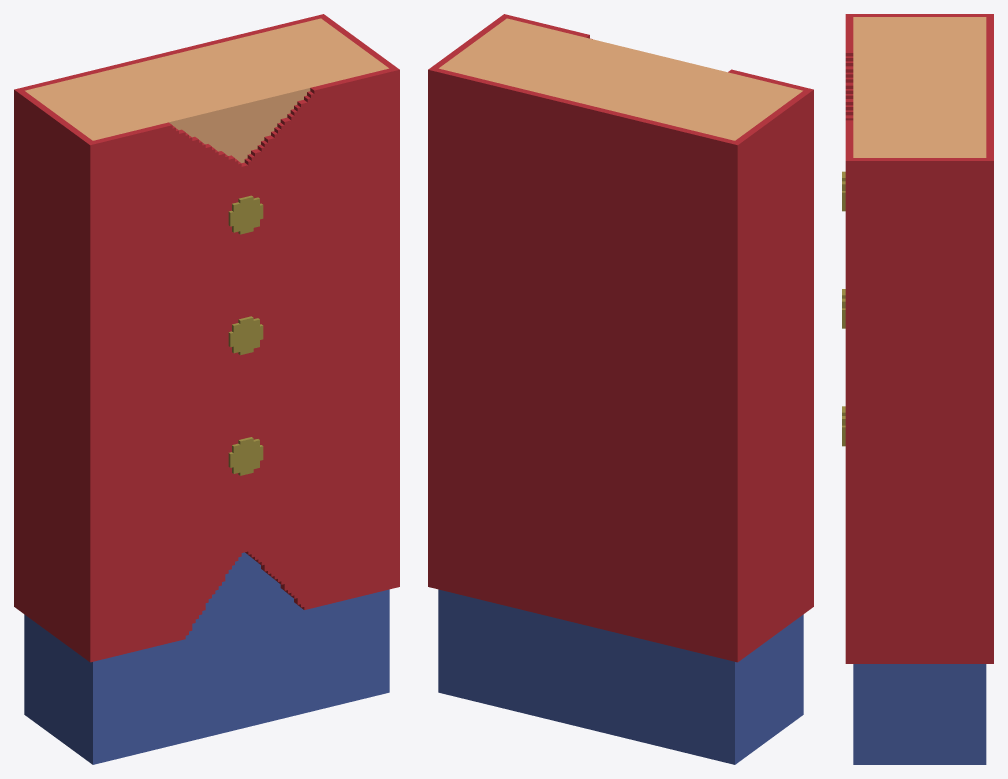
The model's file is Body.obj.
3 views of the same model, side by side, from view 1: azimuth 30°, elevation 25°; view 2: azimuth 150°, elevation 25°; view 3: azimuth 270°, elevation 25° (orthographic). The views are drawn at different scales.
Size of the model in its own units: 9.4 by 18.1 by 4.1.
1 material, 1 textured.
